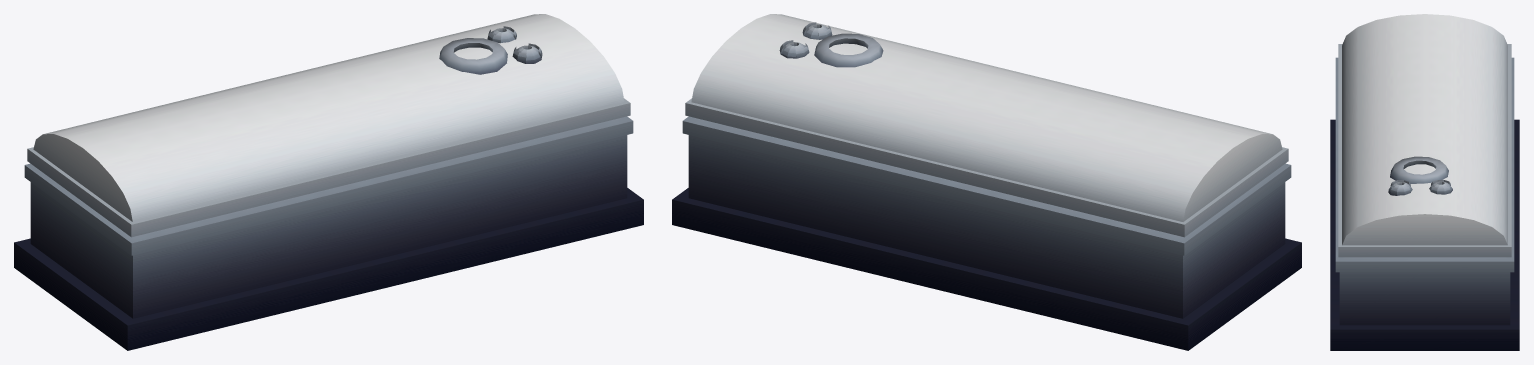
The model's file is Coffin.fbx.
The picture shows the model from 3 angles, left to right: view 1: azimuth 30°, elevation 25°; view 2: azimuth 150°, elevation 25°; view 3: azimuth 270°, elevation 25°; orthographic projection. The views are drawn at different scales.
Visible parts, largest first — view 1: pSphere4; view 2: pSphere4; view 3: pSphere4.
Boxes of the visible parts, box(x1,y1,x2,y2) form: pSphere4: box(14, 14, 643, 350); pSphere4: box(672, 14, 1301, 350); pSphere4: box(1330, 14, 1519, 350).
Size of the model in its own units: 39.29 by 11.97 by 14.97.
Materials: 1 (1 with a texture image).
